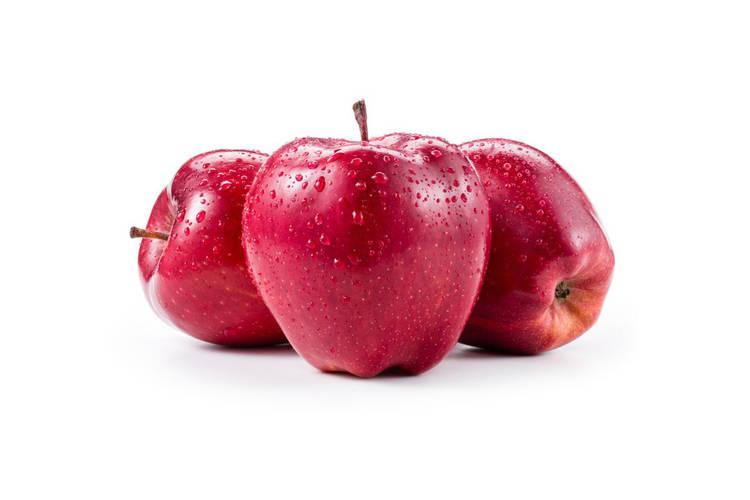apples: (248, 98, 488, 415), (425, 65, 647, 369), (131, 140, 284, 378)
